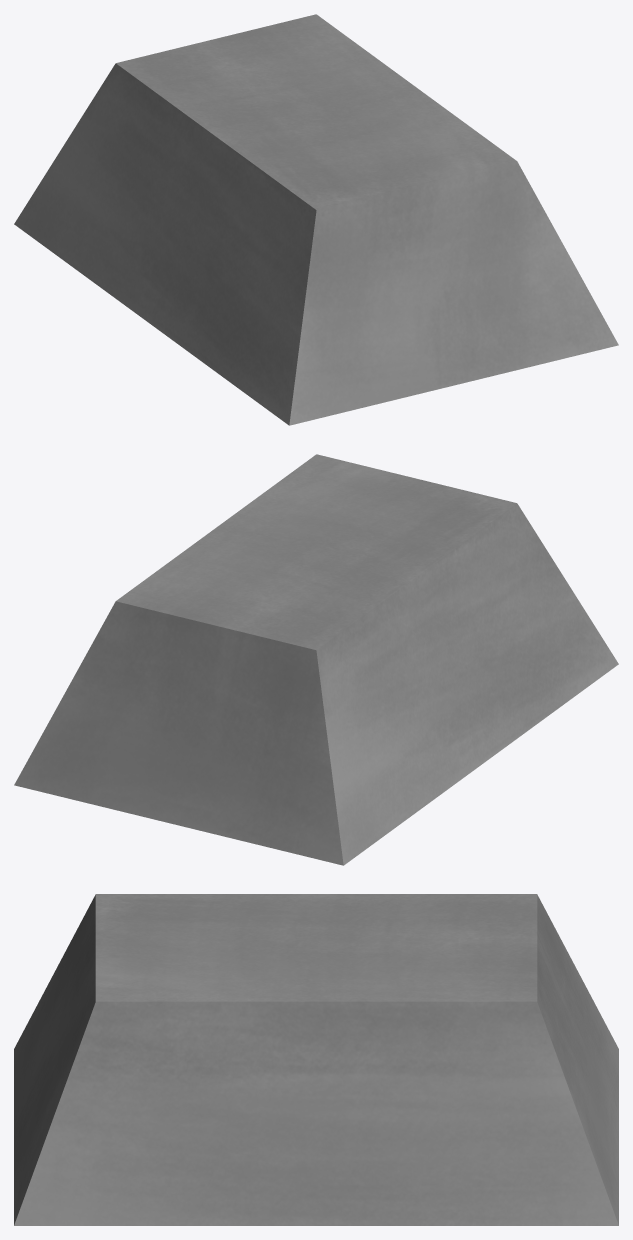
File: Bar_clean_iron.fbx
The picture shows the model from 3 angles, top to bottom: view 1: azimuth 30°, elevation 25°; view 2: azimuth 150°, elevation 25°; view 3: azimuth 270°, elevation 25°; orthographic projection. The views are drawn at different scales.
Parts seen in each view (by area): view 1: Bar_clean_iron; view 2: Bar_clean_iron; view 3: Bar_clean_iron.
Boxes of the visible parts, x1,y1,x2,y2 form: Bar_clean_iron: (14, 14, 618, 425); Bar_clean_iron: (14, 454, 618, 865); Bar_clean_iron: (14, 894, 618, 1225).
Bounding box in the file's own units: 18.18 × 26.3 × 9.09.
